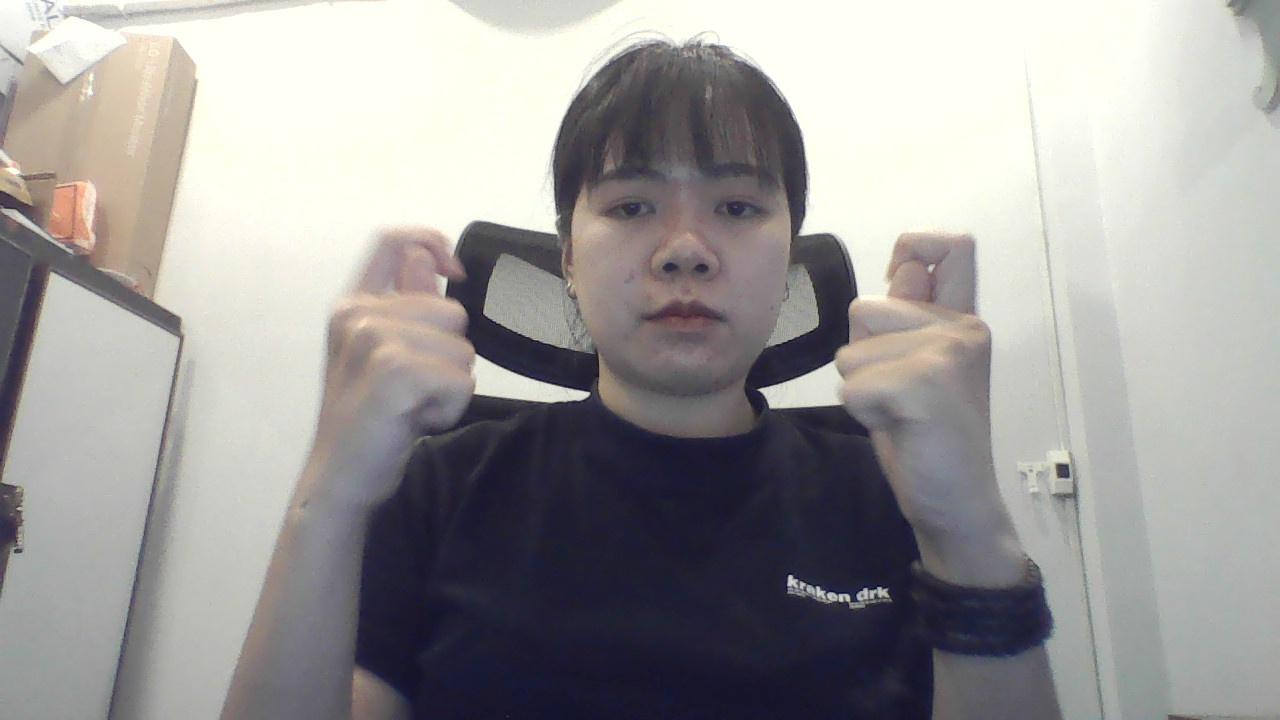X: (827, 217, 1033, 525)
